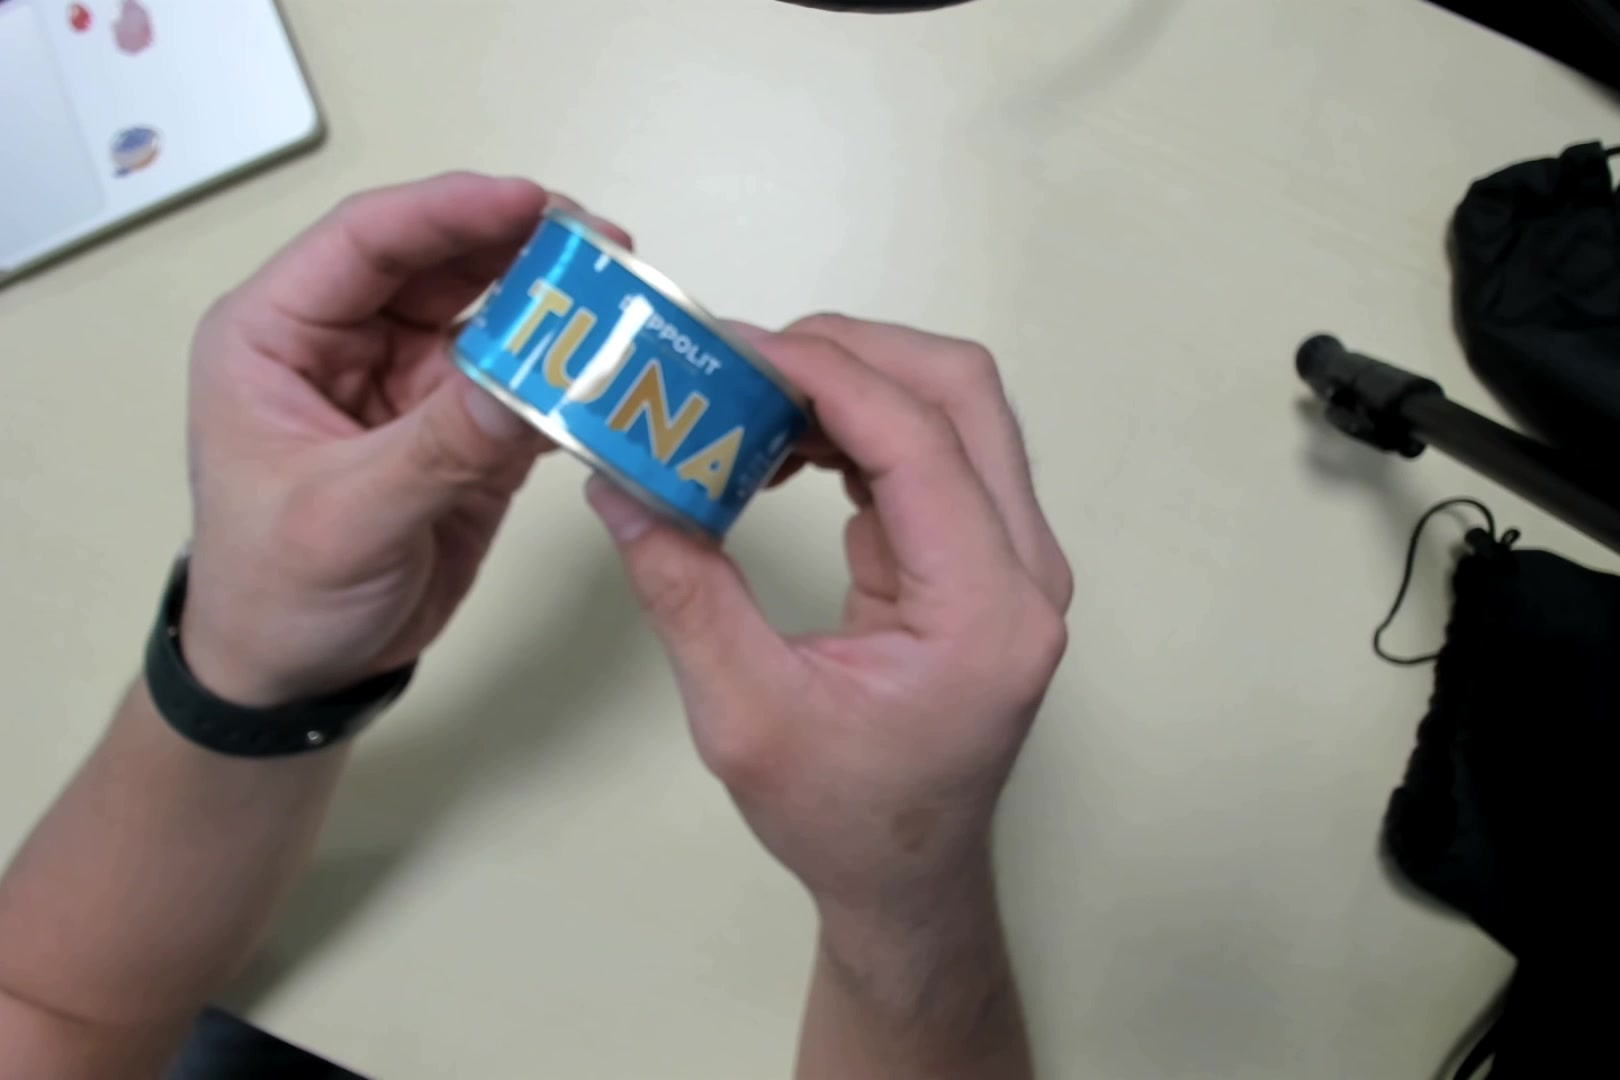CannedTunaDace_0-99g_NonHalal_NonHealthy: (465, 198, 815, 554)
